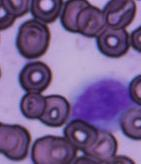M: (66, 72, 134, 131)
